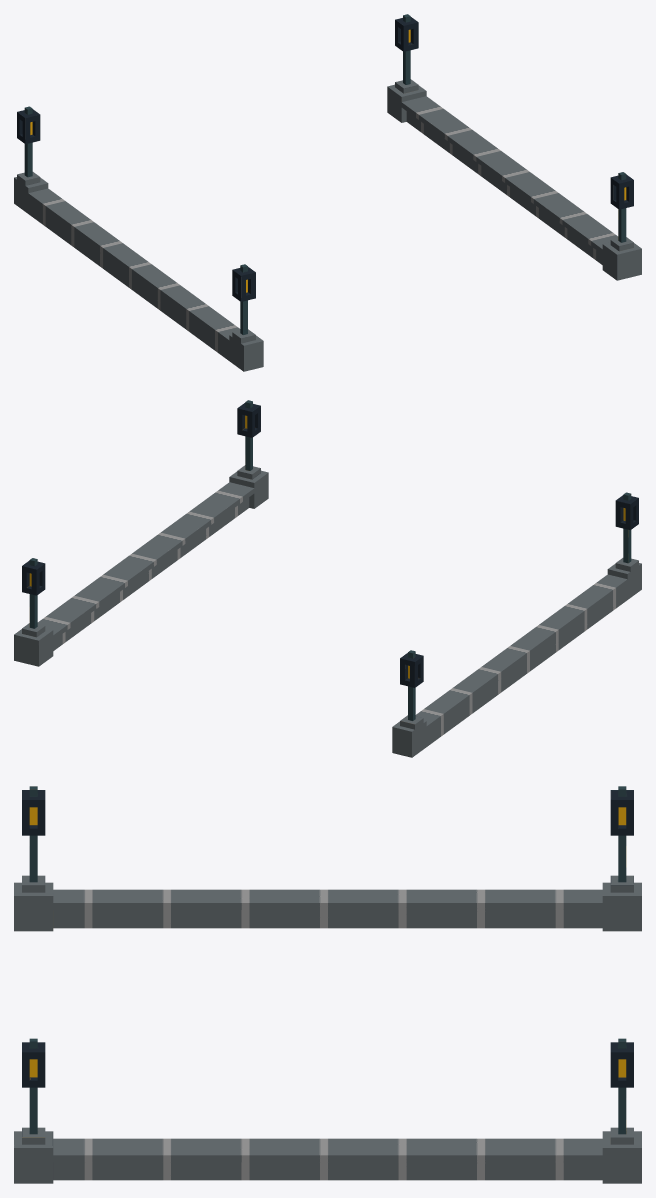
Rendered from bridge_stone_barrier.glb.
3 renders of one model, top to bottom at view 1: azimuth 30°, elevation 25°; view 2: azimuth 150°, elevation 25°; view 3: azimuth 270°, elevation 25°, orthographic. The views are drawn at different scales.
Parts seen in each view (by area): view 1: bridge_stone_barrier; view 2: bridge_stone_barrier; view 3: bridge_stone_barrier.
Part boxes in pixels (bbox=[...]): bridge_stone_barrier: bbox=[14, 14, 641, 371]; bridge_stone_barrier: bbox=[14, 400, 641, 757]; bridge_stone_barrier: bbox=[14, 786, 641, 1183].
Size of the model in its own units: 8 by 1.9 by 8.
1 material, 1 textured.
